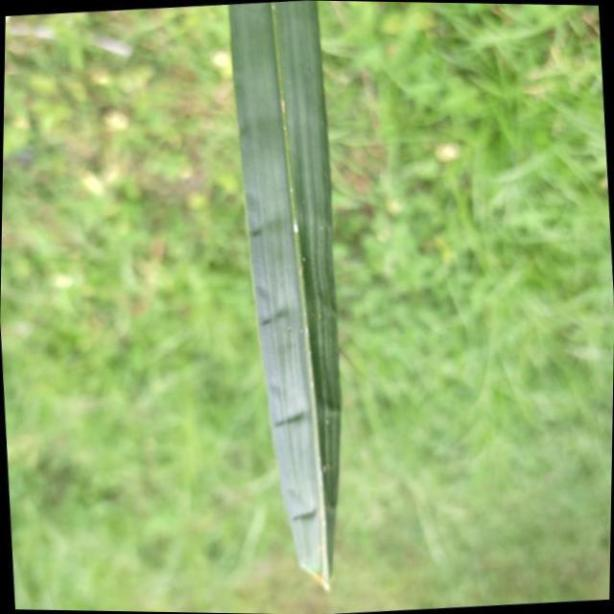Boron: (224, 0, 344, 588)
